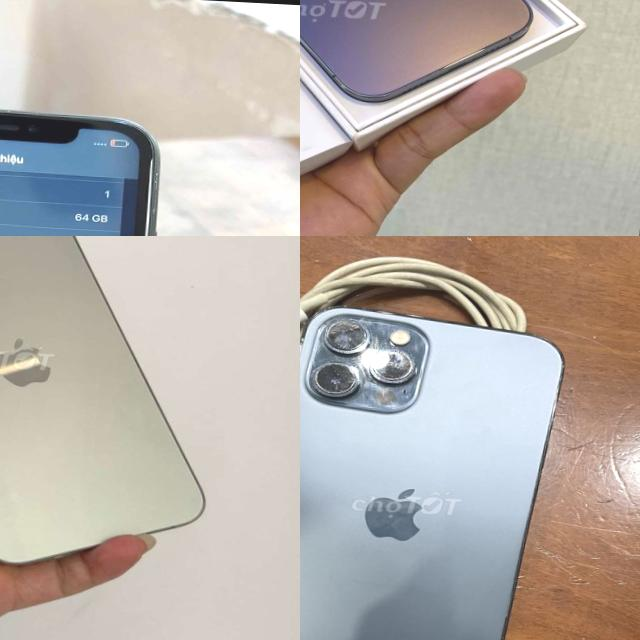gen_12_13: (300, 292, 577, 640)
gen_14: (300, 0, 553, 111)
gen_15: (0, 236, 232, 577)
gen_x_xs: (0, 94, 179, 236)
